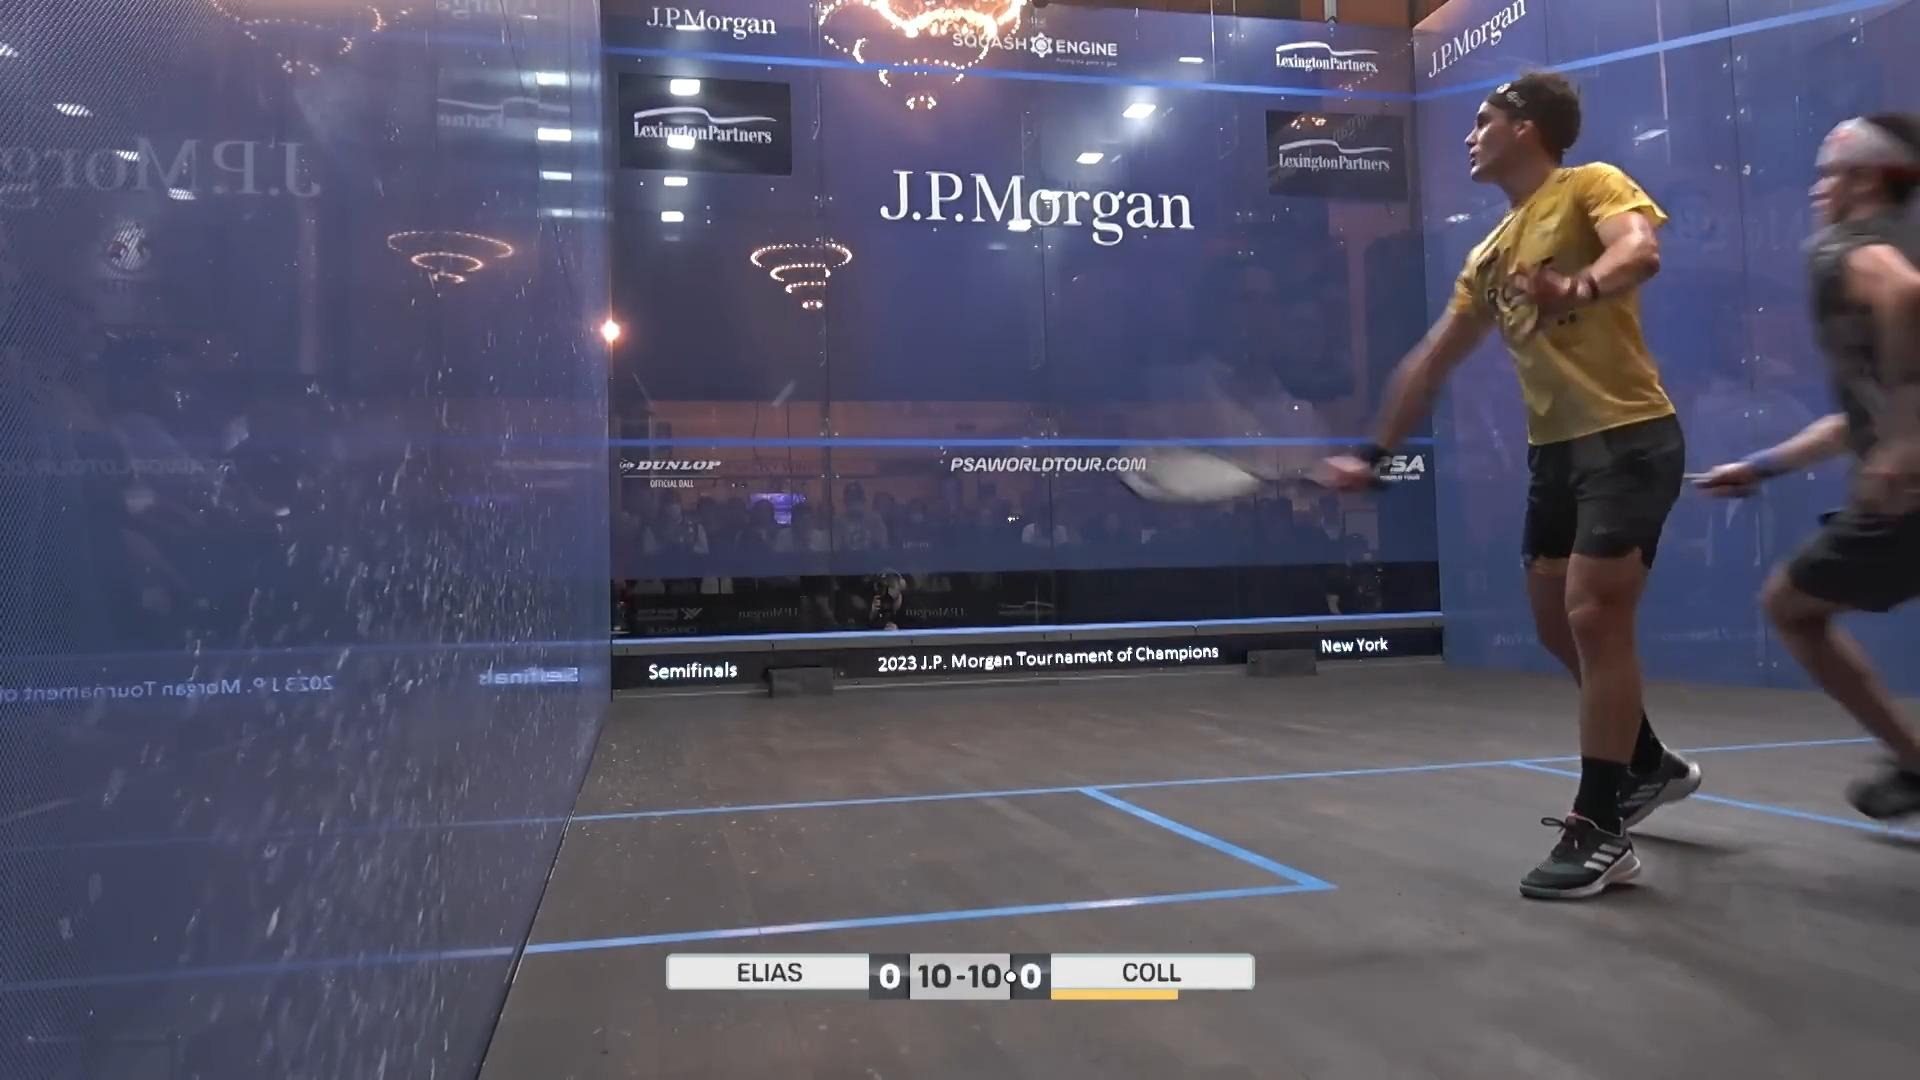Racket: (1093, 429, 1320, 517)
